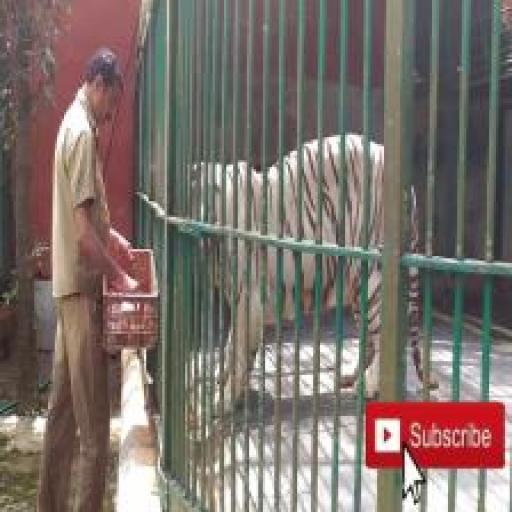Tiger: (169, 130, 440, 398)
